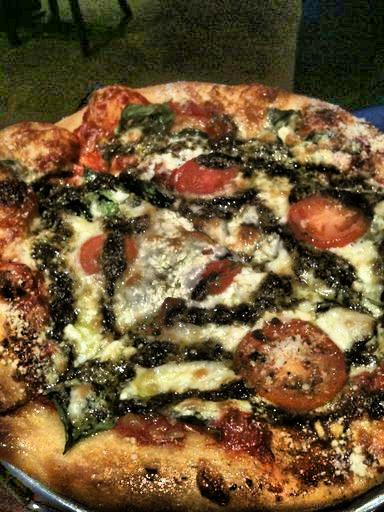pizza: (2, 88, 384, 506)
